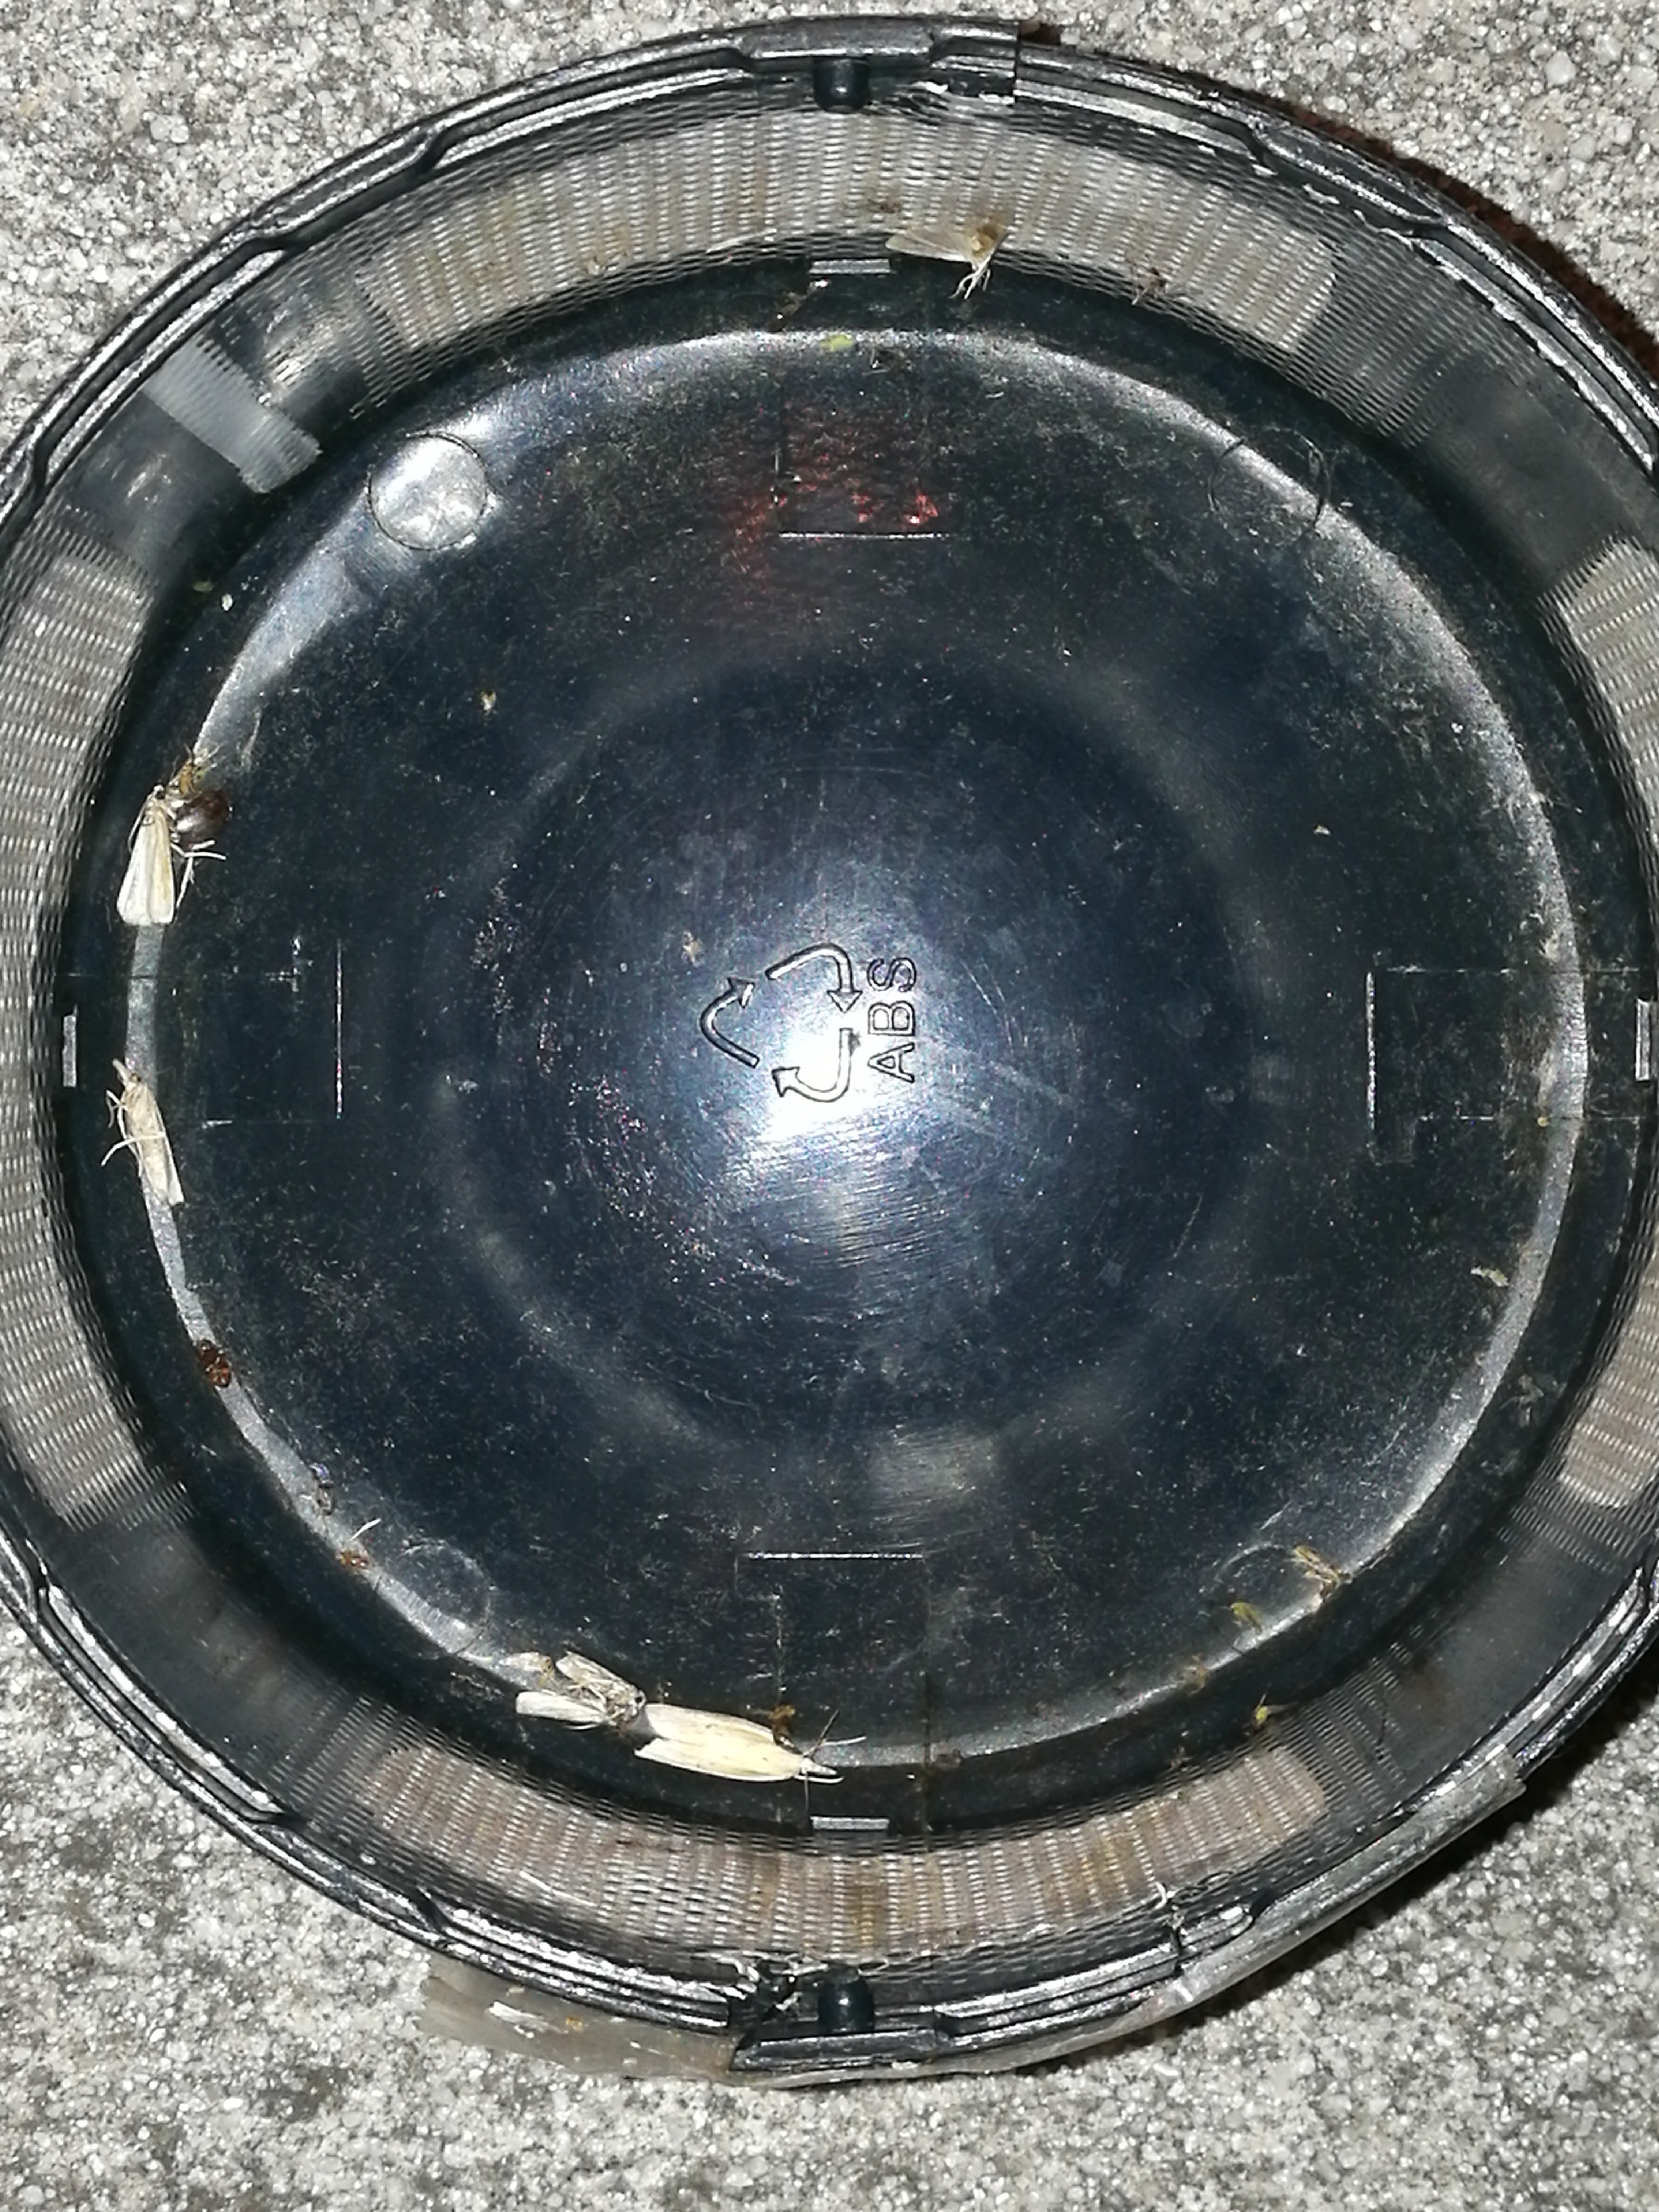beetle: (174, 789, 228, 841)
mosquito: (633, 1705, 836, 1784), (113, 1061, 185, 1204), (556, 1649, 643, 1709), (516, 1691, 610, 1724)
moth: (117, 782, 174, 923)
